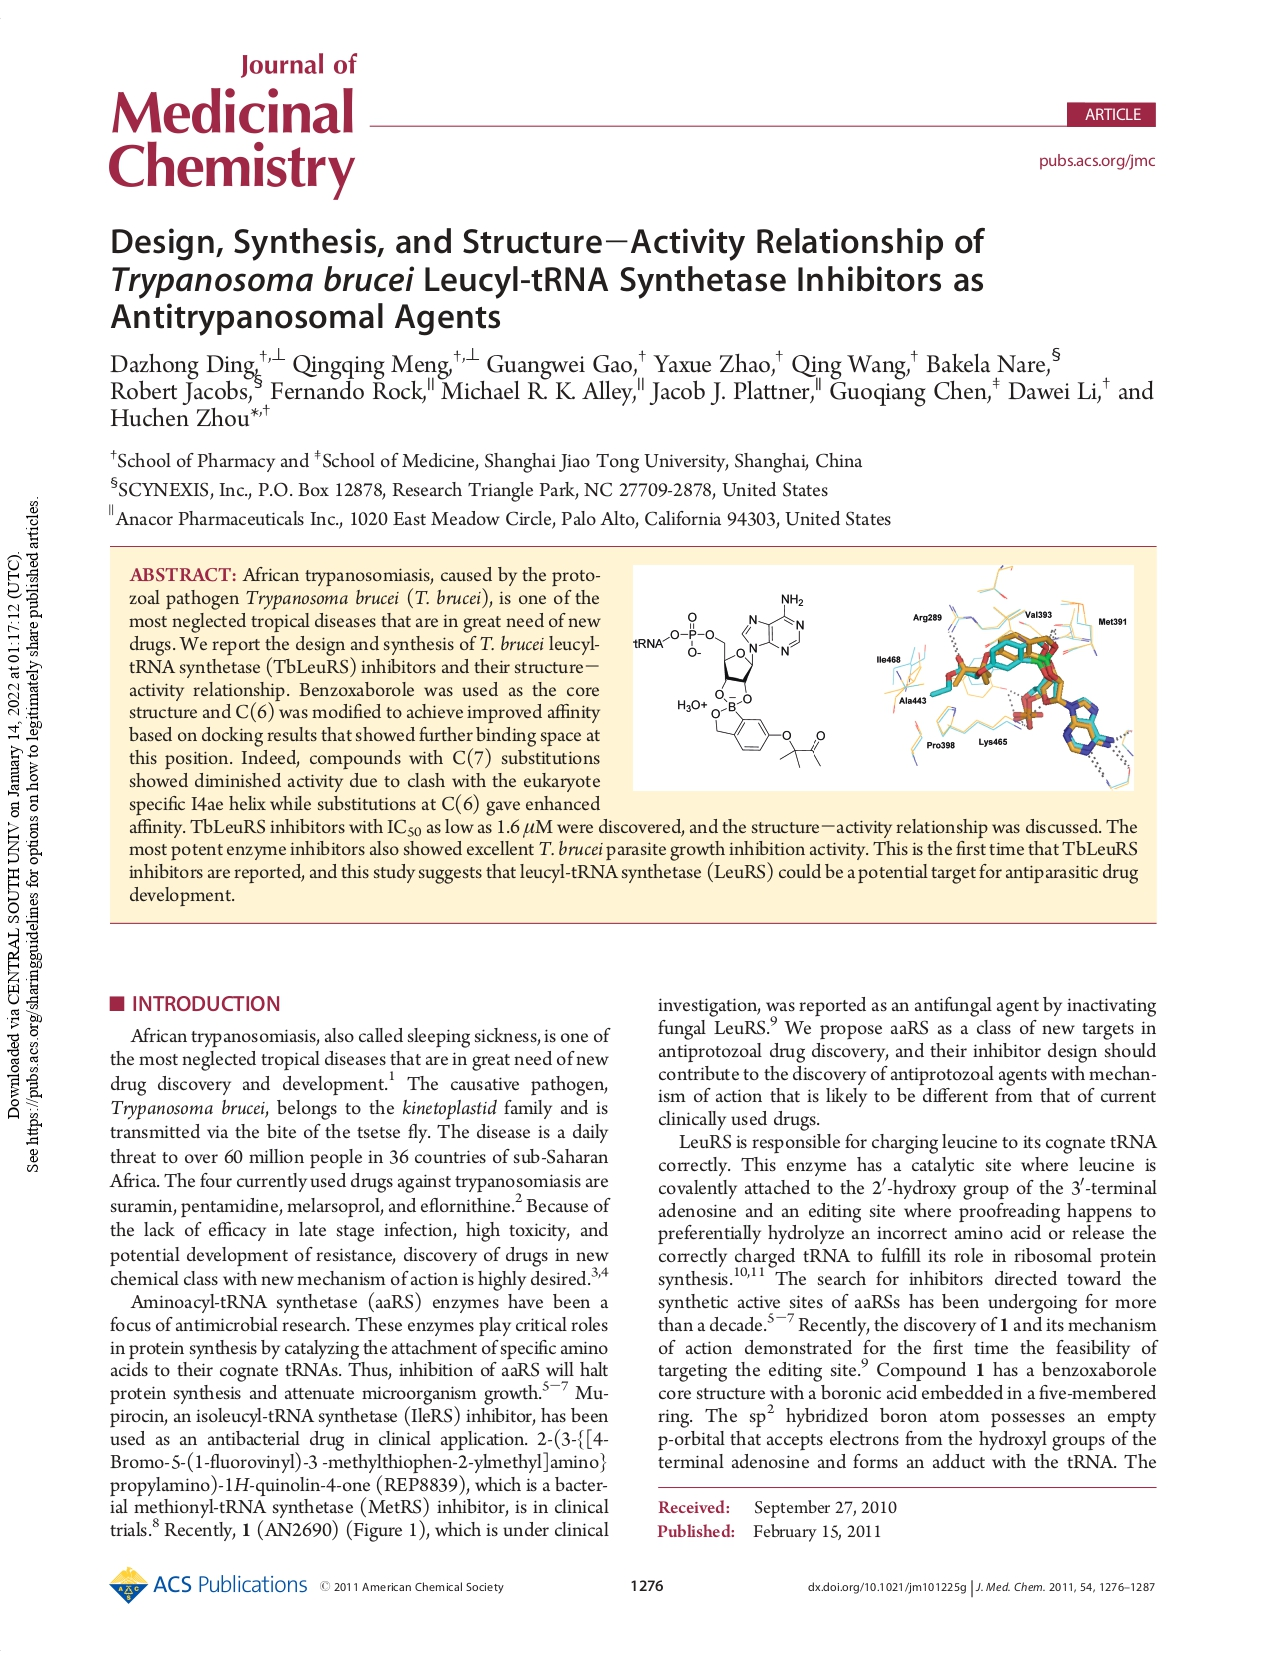exist_molecular: (630, 586, 834, 771)
